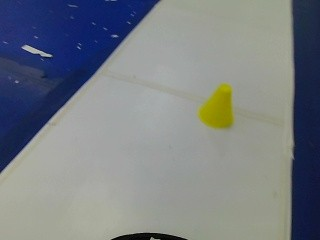cone: (195, 80, 235, 129)
